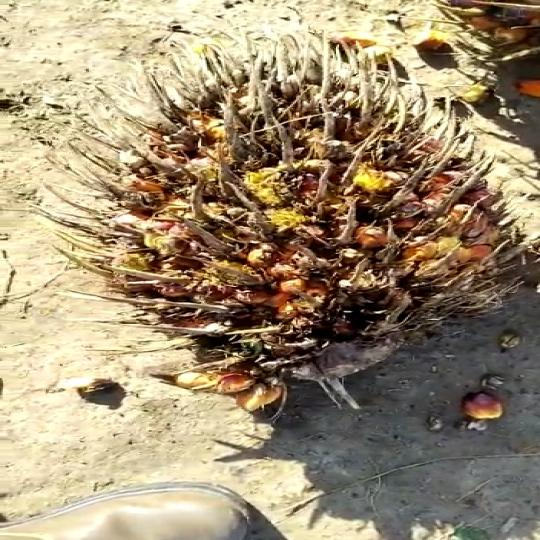terlalu masak: (44, 43, 540, 396)
